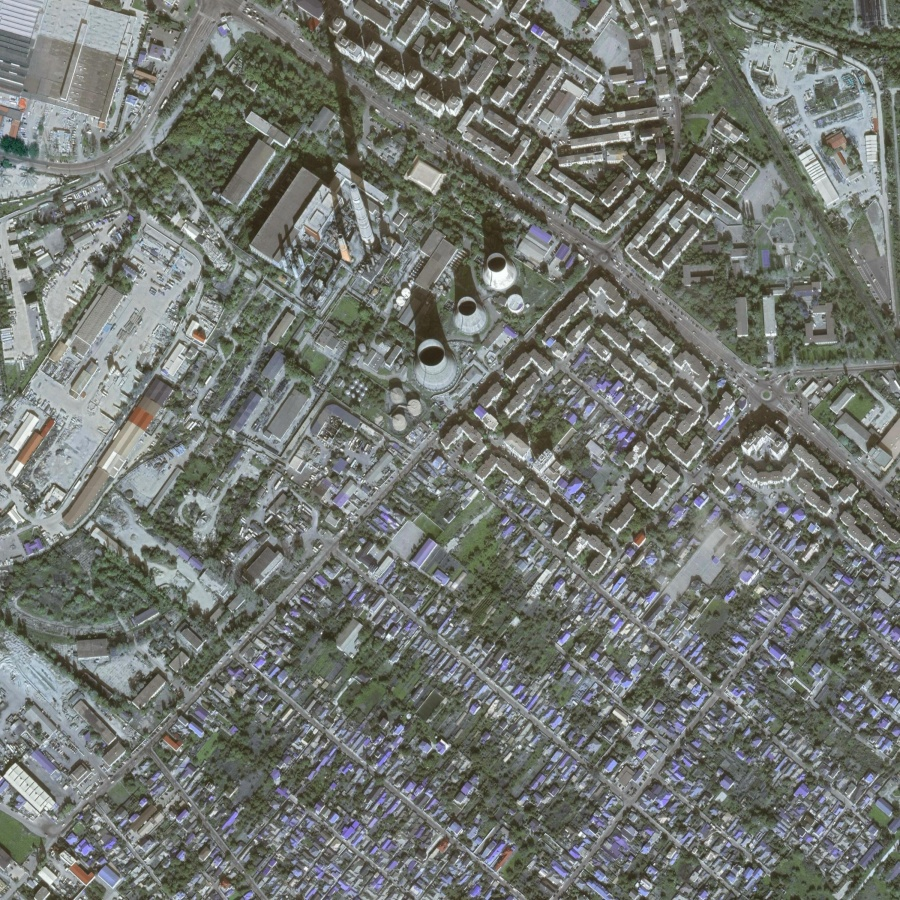PowerPlant: (257, 74, 543, 418)
